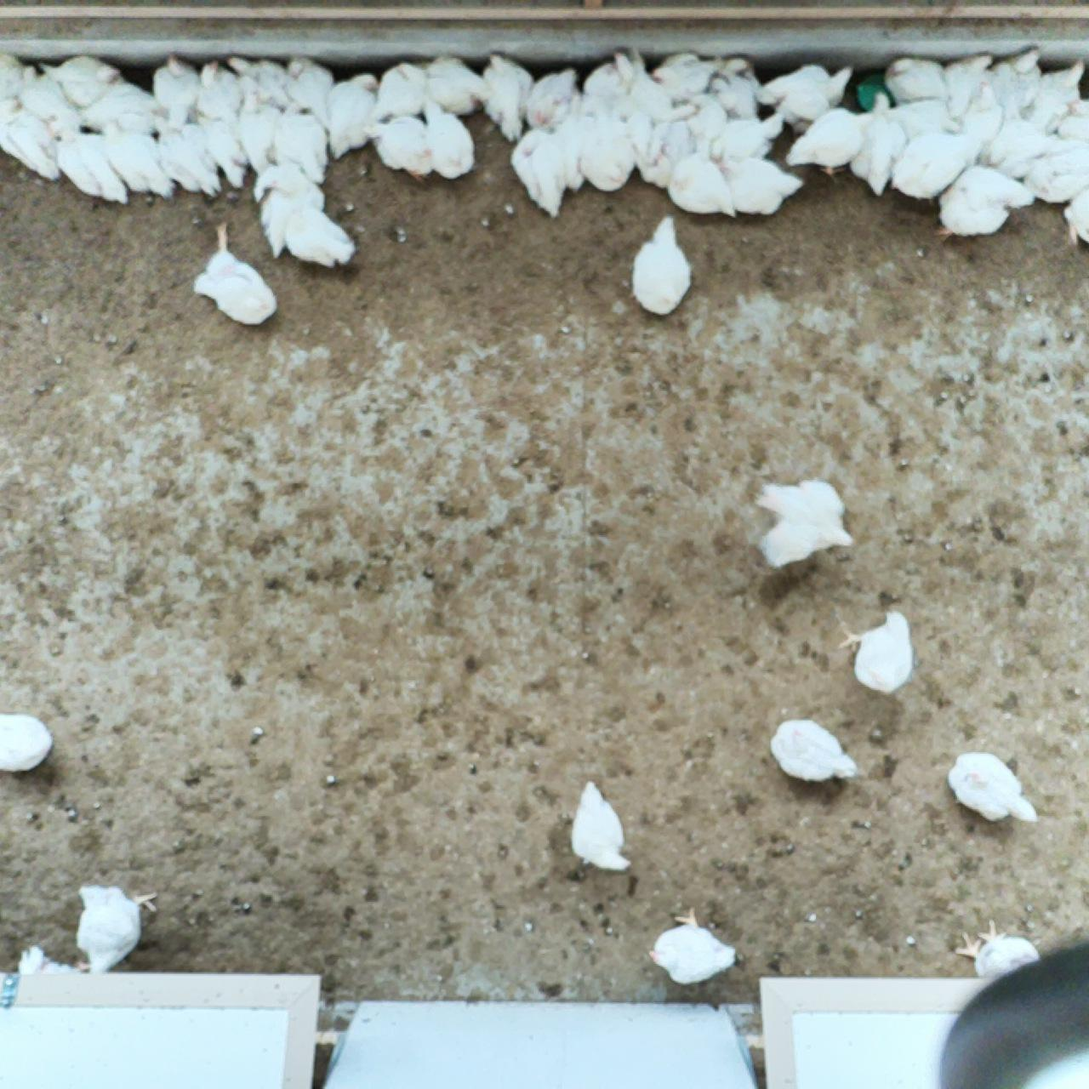chicken: (252, 160, 358, 272), (750, 471, 859, 569), (187, 213, 280, 326), (69, 877, 160, 974), (936, 160, 1034, 244), (941, 746, 1038, 825), (96, 114, 179, 203), (760, 58, 853, 137), (847, 88, 909, 203), (838, 608, 919, 696), (648, 911, 742, 986), (508, 121, 577, 220), (148, 111, 222, 202), (629, 212, 693, 316), (787, 106, 875, 180), (710, 151, 806, 217), (891, 130, 979, 202), (365, 111, 443, 192), (321, 68, 386, 162), (569, 778, 632, 874), (767, 717, 861, 781), (9, 64, 87, 141), (70, 77, 171, 135), (476, 50, 534, 149), (0, 95, 63, 184), (417, 100, 483, 182), (56, 128, 126, 203), (958, 919, 1043, 979), (421, 50, 489, 124), (666, 152, 740, 220), (979, 117, 1066, 174), (703, 112, 785, 172), (625, 56, 695, 125), (194, 105, 252, 188), (631, 118, 694, 192), (44, 50, 123, 109), (237, 96, 289, 183), (988, 44, 1048, 118), (708, 52, 769, 123), (1024, 62, 1085, 133), (372, 56, 434, 125), (530, 64, 583, 144), (583, 45, 641, 118), (579, 118, 635, 193), (228, 52, 295, 114), (282, 52, 333, 131), (940, 45, 995, 117), (187, 52, 241, 125), (279, 101, 328, 180), (881, 91, 959, 140), (0, 704, 55, 773), (1028, 148, 1089, 209), (155, 51, 200, 129), (883, 52, 946, 107), (648, 48, 720, 94), (684, 92, 732, 154), (0, 44, 43, 111), (962, 80, 1001, 149), (611, 90, 655, 149), (17, 943, 84, 981), (1048, 95, 1089, 148), (1061, 182, 1089, 245)
